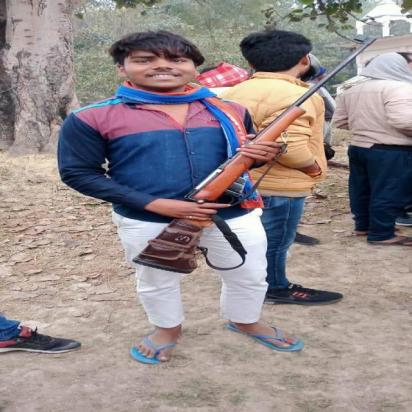Gun: (128, 32, 381, 276)
